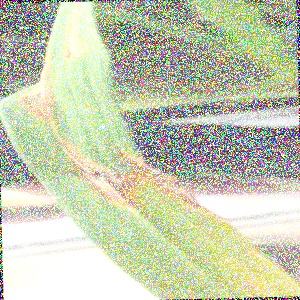Brown_Spot: (109, 129, 204, 206), (49, 129, 128, 216), (0, 54, 62, 128), (56, 11, 93, 60)
